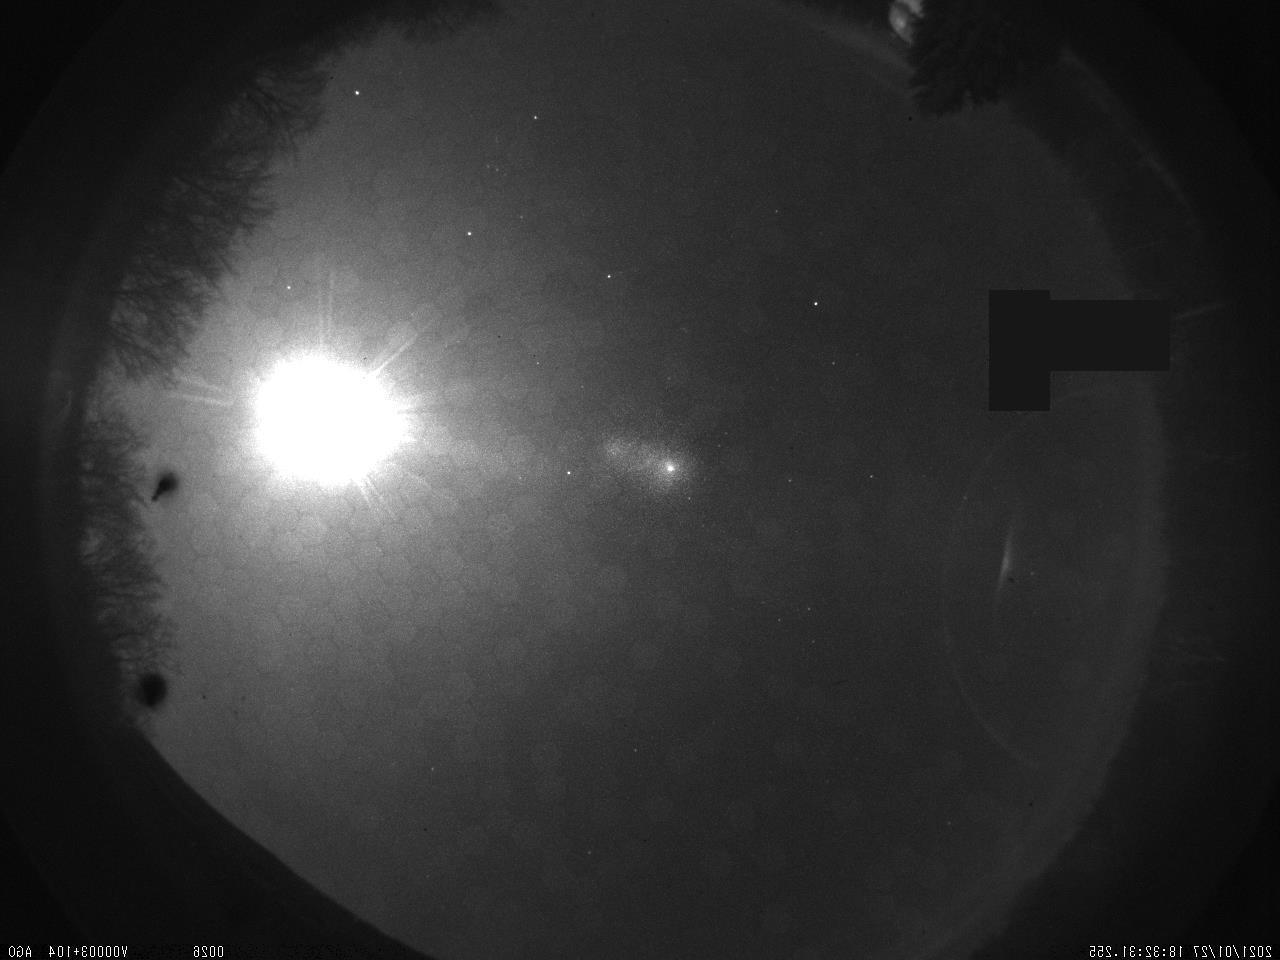meteor: (1005, 328, 1021, 386)
